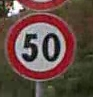limite 50: (4, 12, 75, 81)
